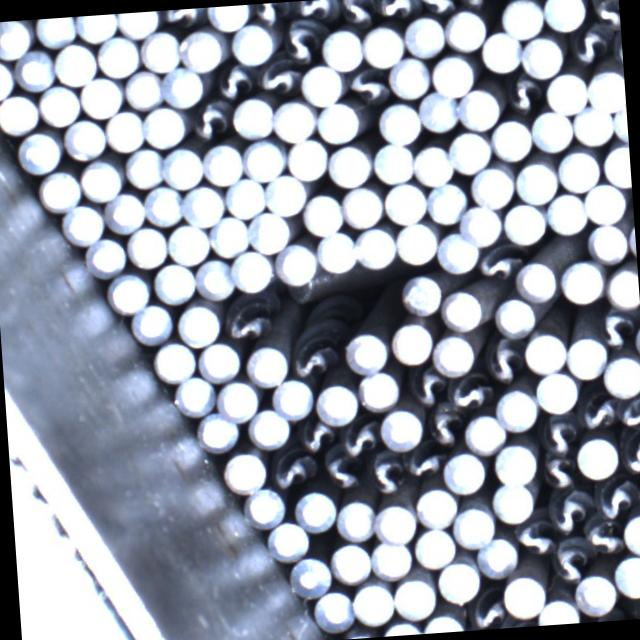tool: (329, 492, 378, 544), (267, 374, 315, 422), (311, 379, 358, 428), (391, 572, 437, 622), (498, 570, 546, 617), (514, 156, 560, 205), (178, 26, 228, 71), (570, 569, 617, 616), (338, 180, 384, 228), (488, 114, 534, 162), (16, 126, 62, 174), (242, 342, 288, 390), (342, 332, 390, 378), (494, 384, 539, 433), (286, 488, 336, 532), (51, 38, 97, 85), (558, 257, 604, 304), (528, 105, 574, 152), (441, 447, 488, 493), (77, 156, 124, 202), (221, 447, 267, 494), (314, 99, 362, 144), (158, 144, 204, 190), (94, 32, 140, 78), (136, 28, 182, 74), (326, 140, 372, 186), (262, 170, 308, 216), (241, 136, 287, 182), (376, 98, 422, 144), (451, 501, 497, 547), (388, 319, 434, 365), (350, 580, 396, 626), (490, 478, 536, 524), (180, 180, 225, 227), (246, 208, 291, 255), (402, 10, 446, 58), (394, 218, 438, 266), (374, 498, 418, 546), (238, 486, 286, 530), (101, 106, 146, 152), (165, 220, 210, 266), (270, 97, 316, 142), (534, 367, 579, 413), (229, 247, 274, 293), (434, 229, 480, 274), (398, 270, 443, 316), (436, 558, 481, 604), (429, 332, 474, 378), (272, 240, 318, 285), (36, 81, 80, 128), (556, 145, 600, 192), (200, 140, 244, 187), (428, 50, 473, 95), (439, 286, 484, 331), (411, 524, 456, 569), (223, 174, 267, 220), (76, 74, 122, 118), (457, 85, 501, 131), (124, 224, 168, 270), (445, 129, 491, 173), (409, 142, 453, 188), (584, 218, 628, 264), (360, 22, 404, 68), (457, 201, 501, 247), (468, 163, 514, 207), (60, 116, 106, 160), (462, 410, 508, 454), (562, 334, 608, 378), (442, 6, 486, 52), (61, 199, 105, 245), (230, 92, 274, 138), (264, 518, 310, 562), (354, 366, 398, 412), (378, 406, 422, 452), (581, 180, 626, 224), (142, 103, 186, 148), (501, 200, 545, 245), (160, 64, 205, 108), (381, 180, 426, 224), (176, 300, 220, 345), (285, 136, 329, 181), (492, 293, 536, 338), (299, 61, 344, 105), (522, 329, 567, 373), (328, 538, 372, 583), (244, 408, 291, 450), (544, 191, 588, 235), (520, 34, 564, 78), (320, 26, 364, 70), (370, 140, 414, 184), (102, 191, 146, 235), (230, 20, 274, 64), (514, 258, 558, 302), (414, 484, 458, 528), (286, 556, 330, 600), (416, 89, 459, 134), (141, 183, 184, 228), (122, 144, 164, 190), (354, 224, 396, 270), (152, 338, 198, 380), (386, 55, 430, 98), (207, 214, 250, 258), (120, 67, 163, 111), (198, 338, 241, 382), (300, 191, 343, 235), (130, 301, 174, 344), (105, 271, 149, 314), (38, 168, 81, 212), (314, 228, 356, 273), (544, 70, 587, 113), (575, 436, 618, 479), (572, 103, 614, 147), (476, 534, 518, 578), (196, 410, 240, 452), (424, 180, 466, 224), (312, 588, 354, 632), (368, 538, 412, 580), (599, 352, 640, 397), (175, 374, 218, 416), (479, 30, 522, 72), (193, 256, 234, 300), (15, 49, 56, 93), (585, 67, 626, 111), (152, 262, 194, 304), (216, 376, 258, 418), (0, 89, 39, 134), (85, 234, 126, 276), (603, 264, 640, 310), (501, 0, 544, 37), (0, 19, 34, 64), (280, 276, 327, 308), (600, 140, 632, 186), (534, 594, 580, 626), (541, 0, 584, 32), (33, 16, 76, 48), (611, 552, 640, 599), (74, 13, 117, 42), (204, 4, 250, 31), (116, 11, 159, 38), (421, 610, 465, 634), (620, 511, 640, 555), (0, 56, 14, 101)
tool_b: (222, 292, 279, 343), (288, 333, 341, 382), (587, 477, 640, 521), (280, 15, 326, 65), (548, 532, 590, 586), (484, 338, 528, 388), (567, 23, 613, 70), (254, 58, 304, 101), (319, 444, 362, 494), (366, 446, 408, 497), (593, 305, 636, 354), (269, 446, 314, 491), (190, 96, 234, 142), (501, 70, 547, 114), (546, 491, 592, 534), (539, 409, 578, 456), (214, 62, 258, 103), (448, 372, 493, 412), (424, 404, 464, 449), (582, 516, 624, 558), (344, 63, 387, 104), (574, 391, 616, 432), (540, 451, 580, 494), (511, 520, 554, 560), (337, 417, 378, 457), (293, 413, 334, 451), (478, 244, 520, 281), (406, 442, 446, 479), (408, 366, 443, 408), (466, 592, 504, 630), (612, 388, 640, 435), (582, 0, 620, 33), (161, 8, 206, 30), (295, 0, 338, 23), (617, 432, 640, 475), (339, 0, 376, 24), (251, 1, 291, 22), (378, 0, 415, 19), (416, 0, 458, 16), (457, 0, 498, 8)
